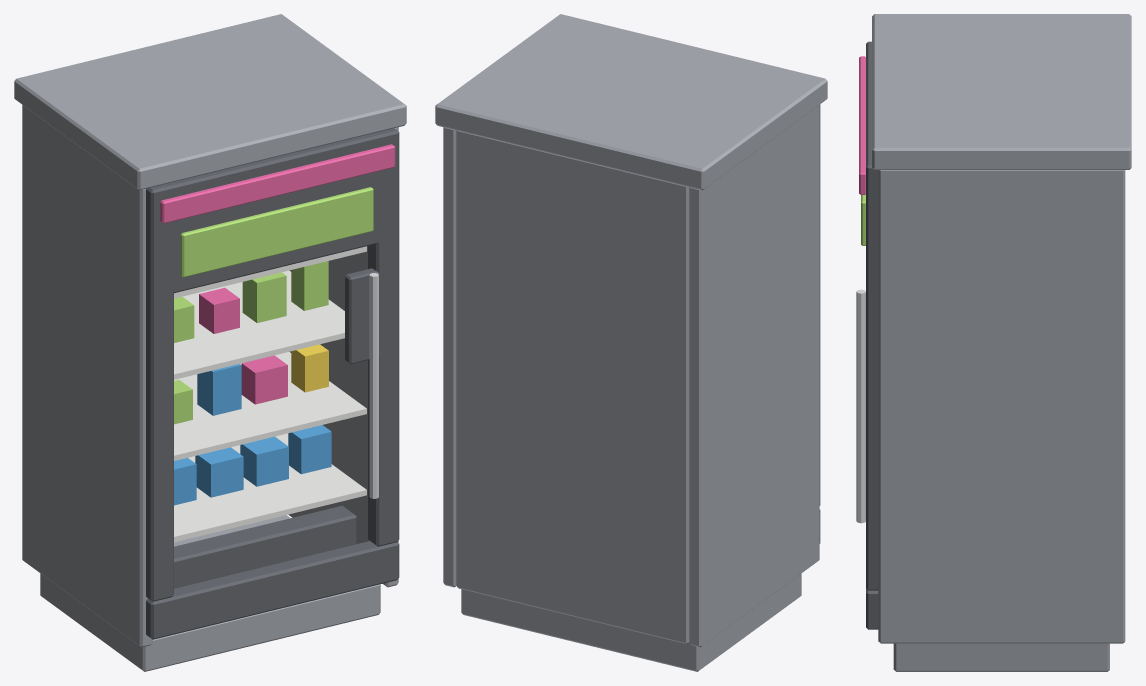
The model's file is trampoline-park-and-soft-play-vending-machine-0b02ec87.glb.
3 views of the same model, side by side, from view 1: azimuth 30°, elevation 25°; view 2: azimuth 150°, elevation 25°; view 3: azimuth 270°, elevation 25° (orthographic). The views are drawn at different scales.
Parts seen in each view (by area): view 1: vending-machine, door, door/lime, door/steel; view 2: vending-machine, door; view 3: vending-machine, door, door/steel.
Part boxes in pixels (x1,y1,x2,y2): vending-machine: [14, 14, 406, 671]; door: [146, 128, 399, 639]; door/lime: [180, 187, 373, 277]; door/steel: [369, 273, 378, 498]; vending-machine: [435, 14, 827, 671]; door: [819, 104, 820, 543]; vending-machine: [859, 14, 1131, 671]; door: [866, 41, 878, 629]; door/steel: [856, 289, 865, 523].
Bounding box in the file's own units: 1.04 × 1.9 × 0.891.
